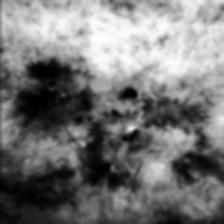Potentially Malignant Skin Tumors: (14, 68, 82, 116), (111, 82, 151, 104)
